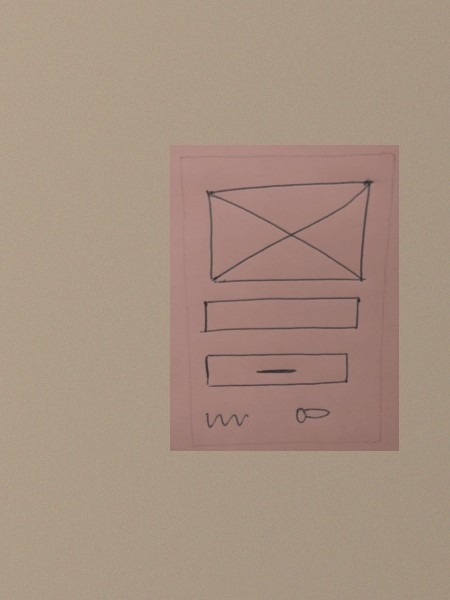button: (201, 350, 353, 392)
image: (202, 178, 373, 287)
switch: (291, 401, 332, 426)
text: (199, 406, 254, 435)
text_input: (198, 296, 363, 334)
